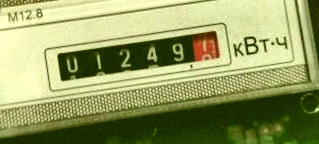0: (63, 51, 80, 73)
1: (90, 48, 105, 70)
2: (115, 45, 134, 69)
4: (143, 41, 159, 63)
7: (196, 30, 212, 52)
9: (169, 39, 185, 62)
screen: (39, 16, 236, 93)
